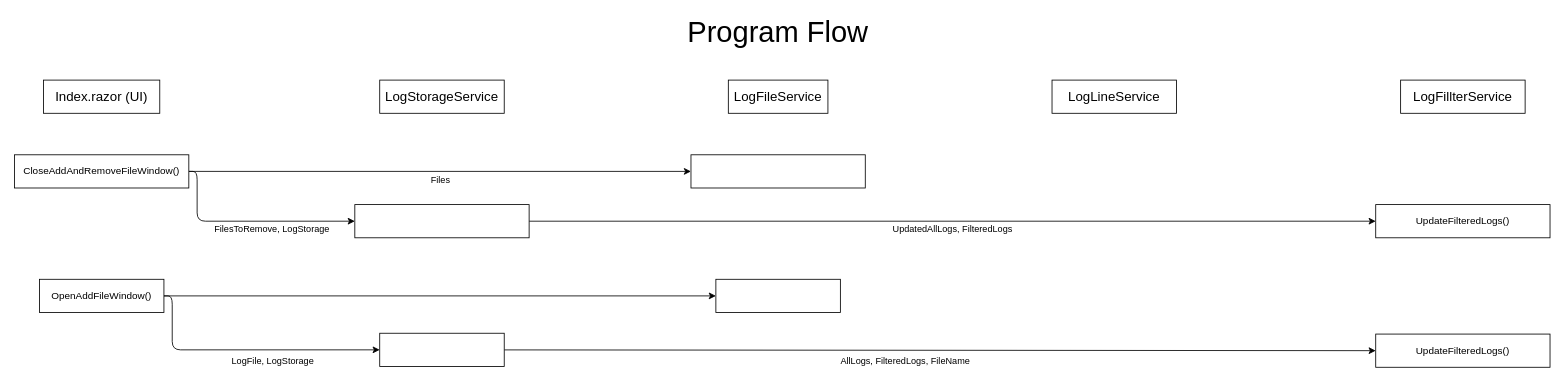
Some shapes in this 1565 by 382 pixel diagram are drawn without their labels. Here are the shapes that lost their labels. From the top down, the box of each, then its label:
(690, 154, 865, 188): UpdateFiles()
(354, 204, 529, 238): RemoveLogsFromLogStorage()
(715, 278, 840, 312): OpenFileDialogAsync()
(379, 332, 504, 366): AddLogsToLogStorage()
